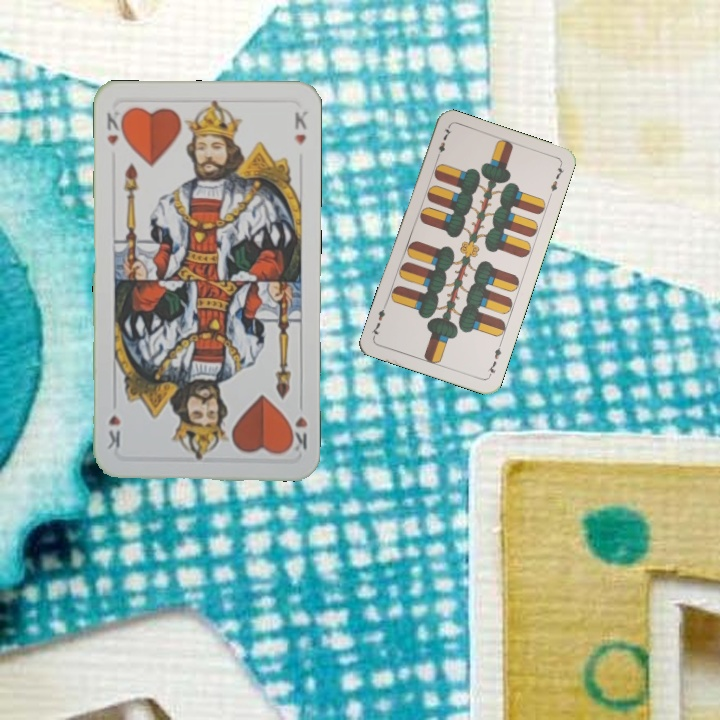E7: (432, 124, 454, 163), (483, 340, 504, 379)
HK: (285, 412, 310, 455), (102, 108, 127, 148)
